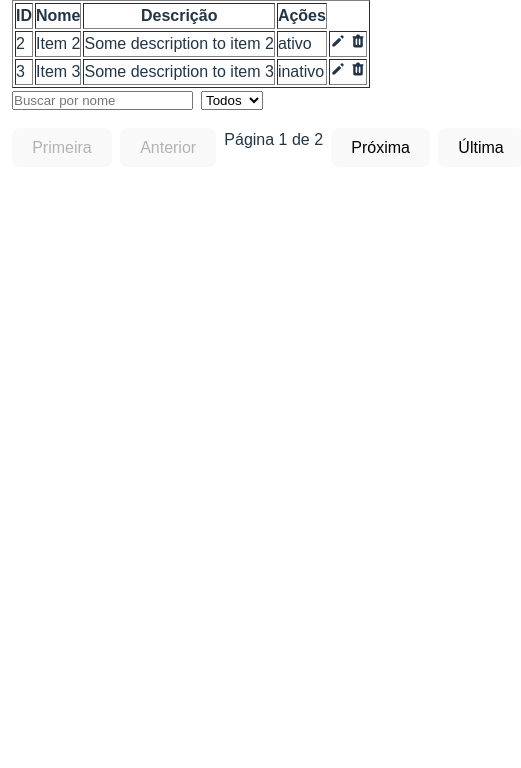
Test: ListCategoriesPage › should handle delete category with error state
Clica no primeiro ícone de lixeira
Click the 1st icon with test id "trash-icon". click: (358, 41)
box: [350,33,366,49]
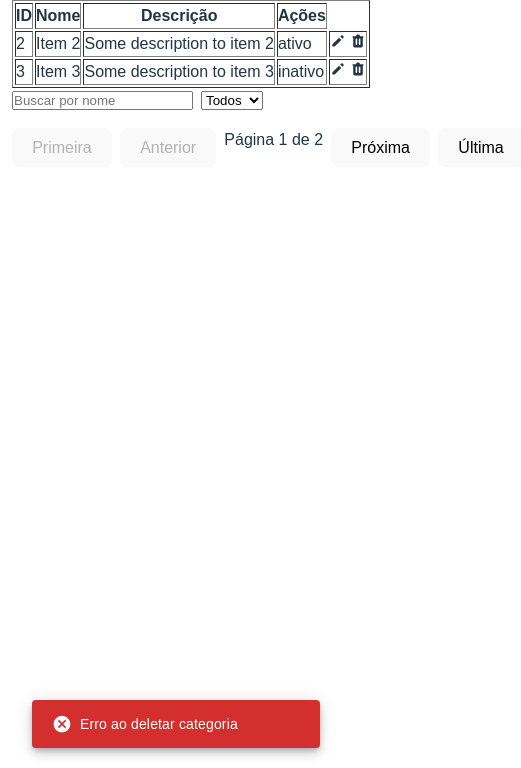
expect the text "Erro ao deletar categoria" is shown: met, box [52,714,238,734]
